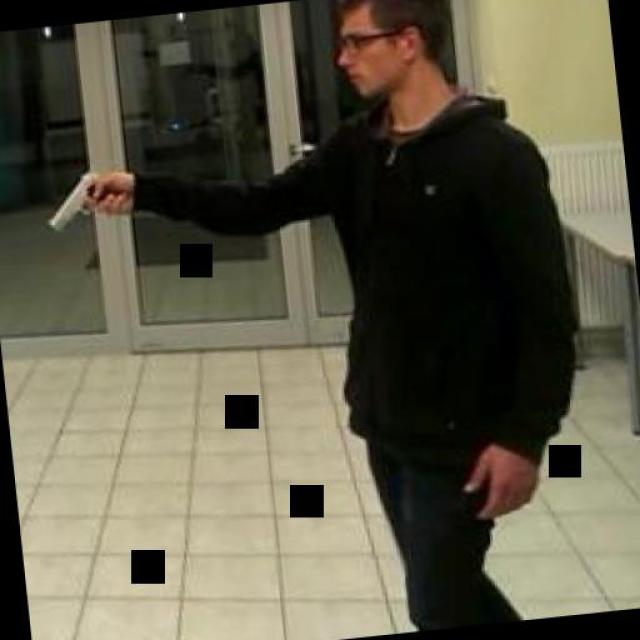gun: (38, 165, 124, 231)
